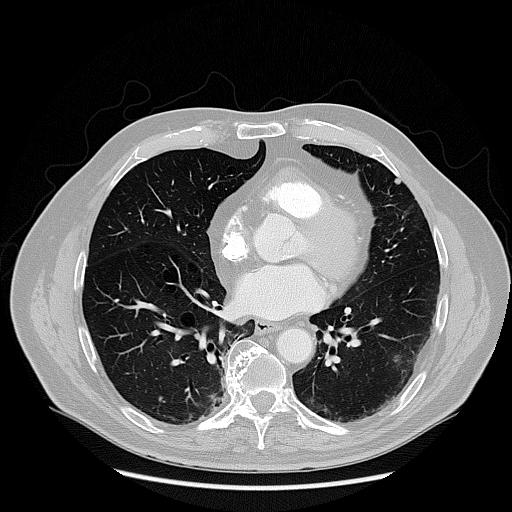nodule: (392, 175, 404, 187)
